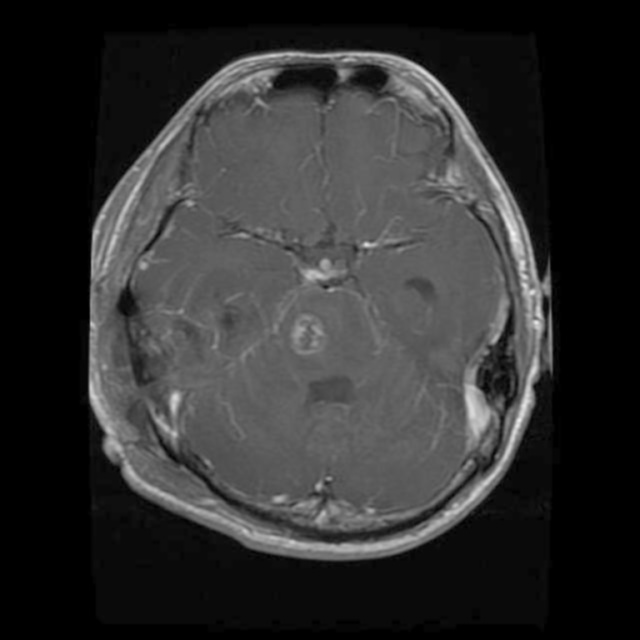pituitary tumor: (288, 318, 332, 350)
